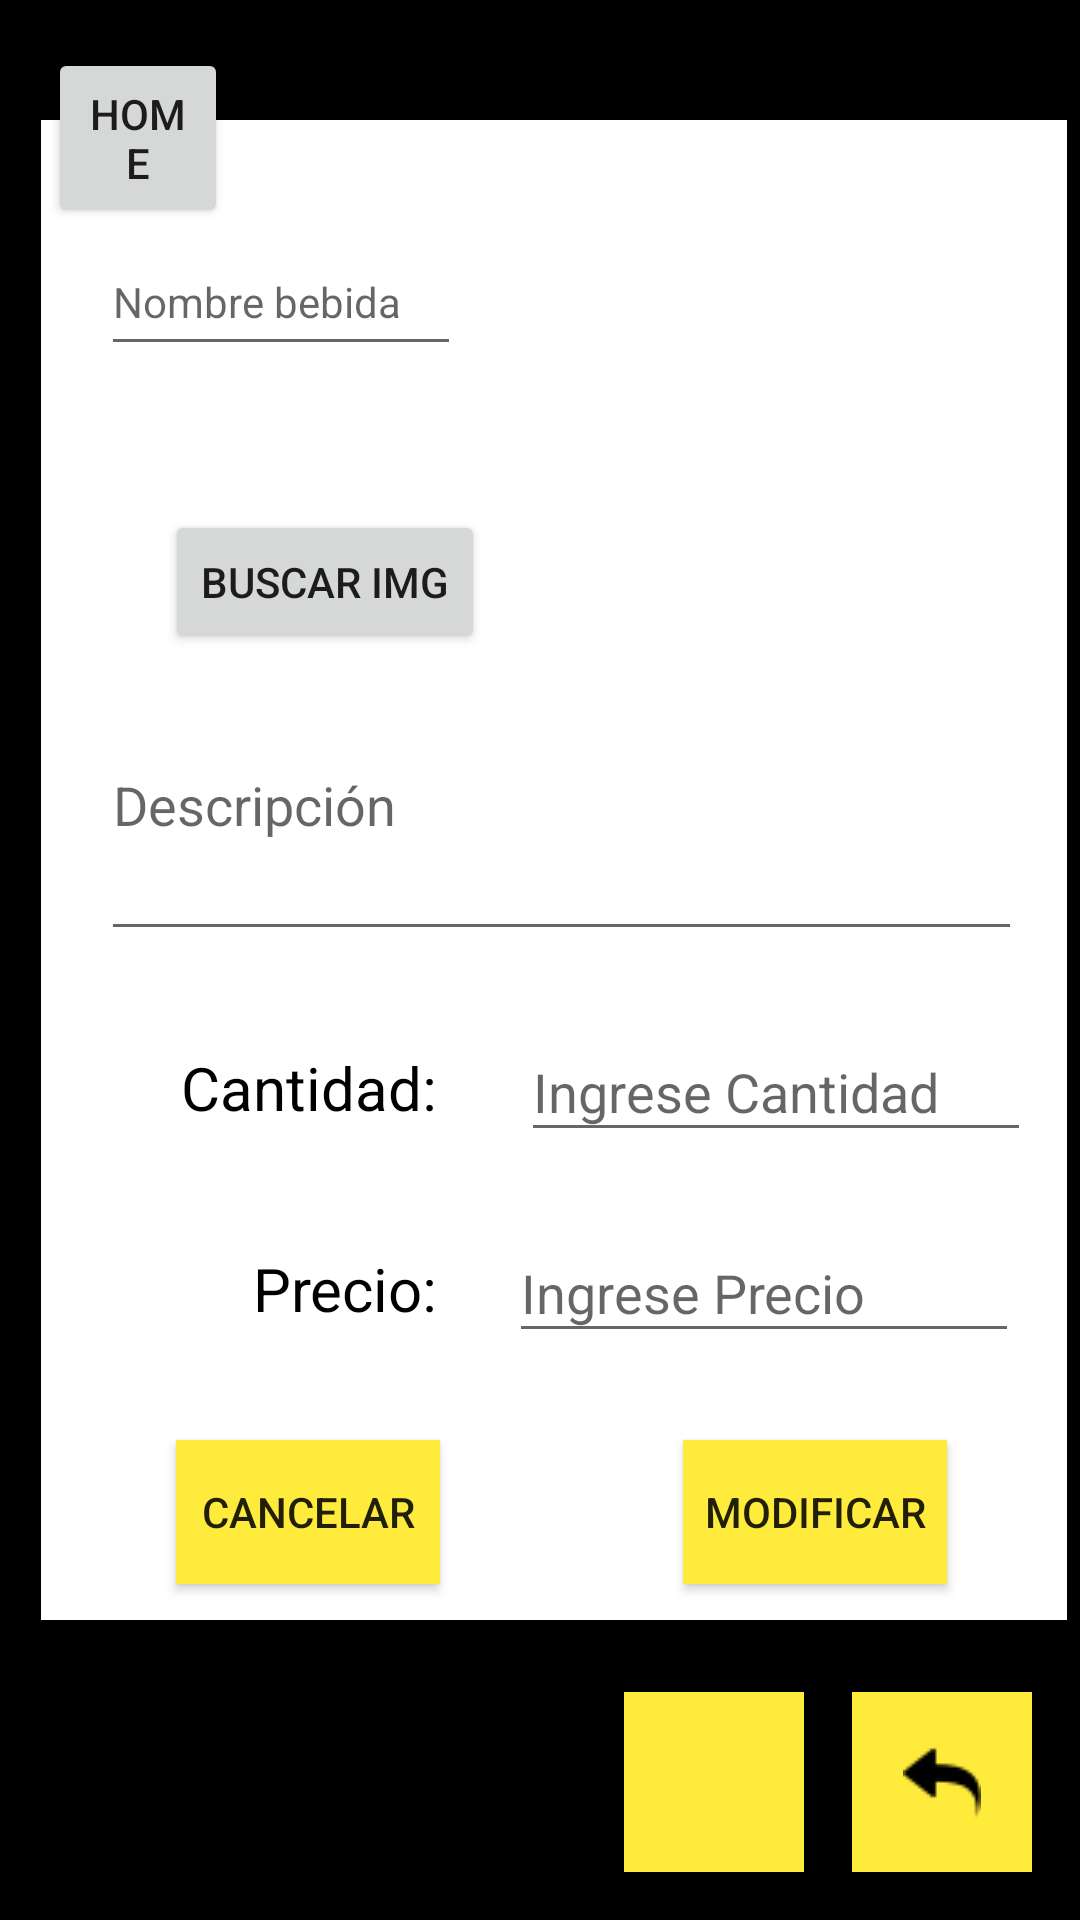

Icons on this 1080 x 1920 Android screen, each with the point to tap as (x=x, y=y):
Regresar: (x=942, y=1782)
